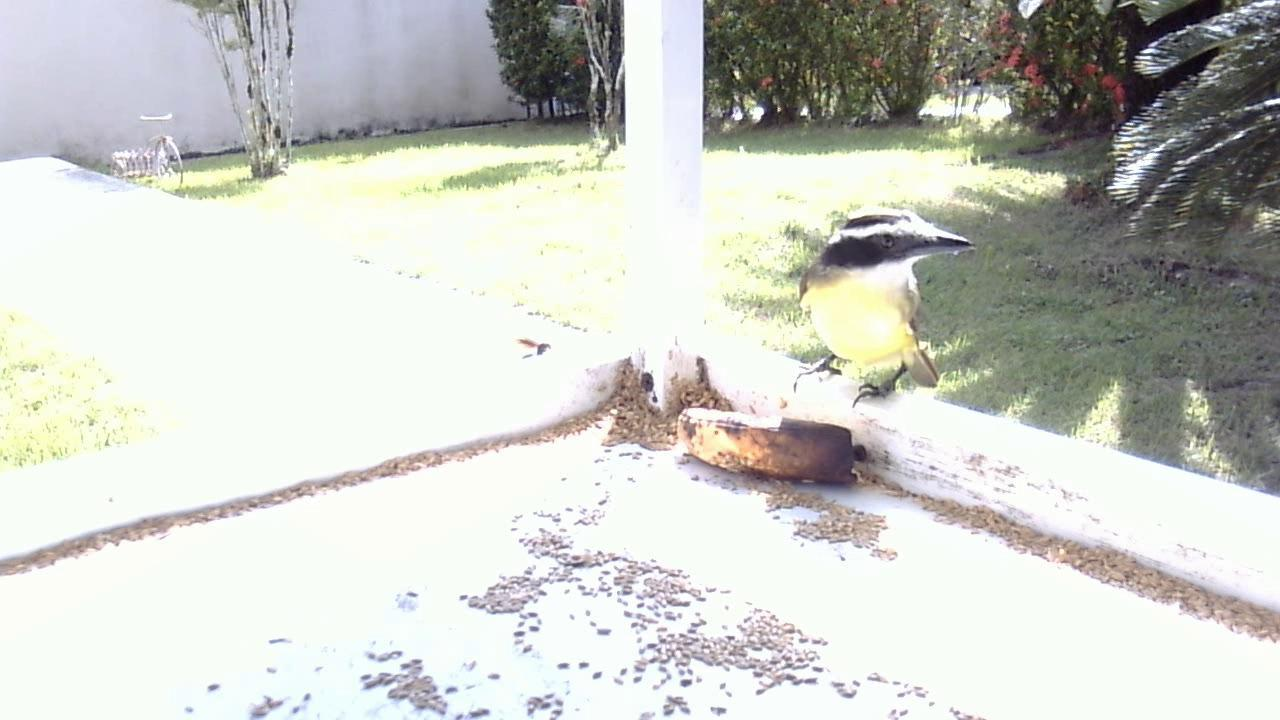bem_te_vi: (777, 204, 972, 408)
